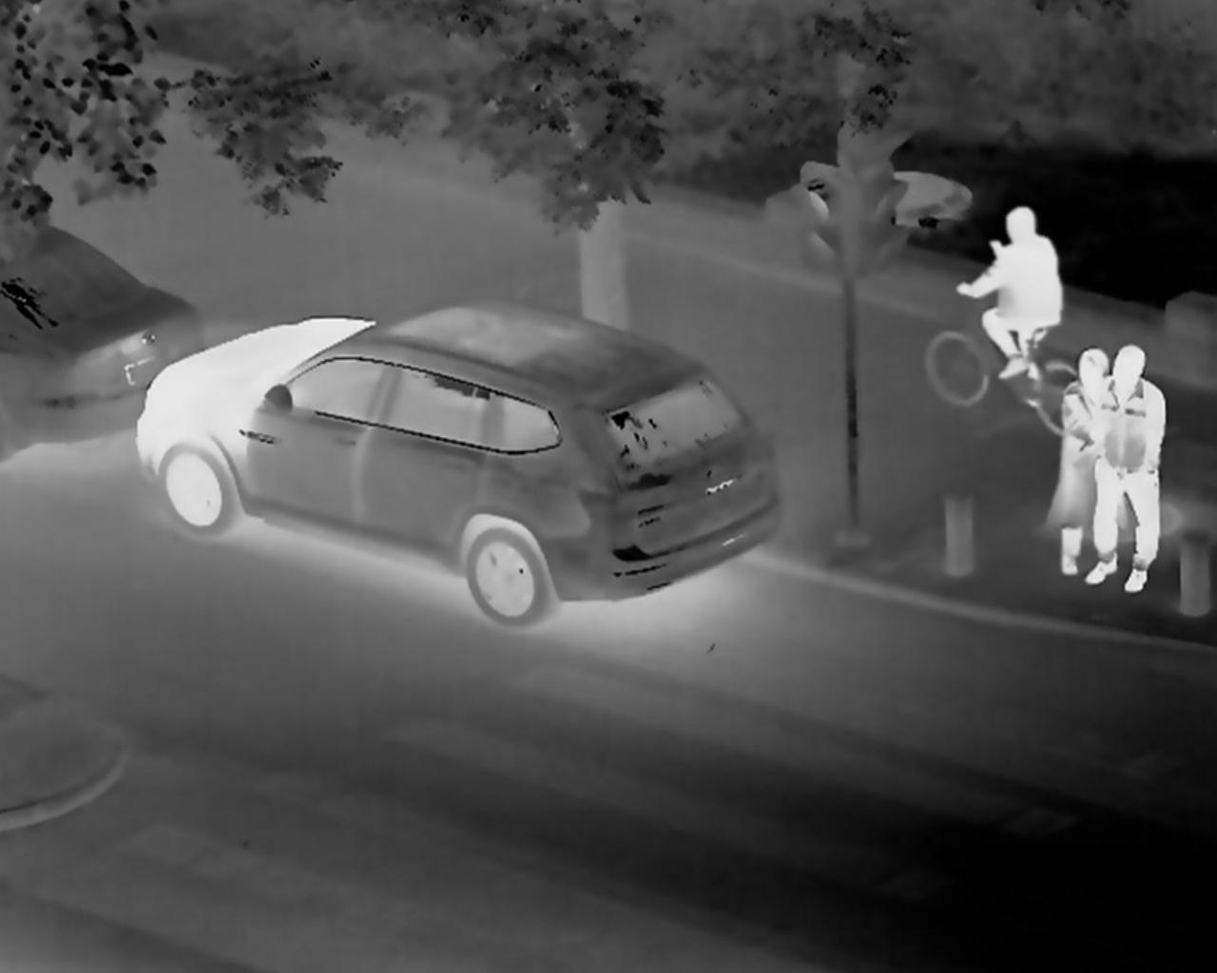person: (1110, 343, 1181, 599), (980, 207, 1057, 352), (1055, 347, 1100, 587)
